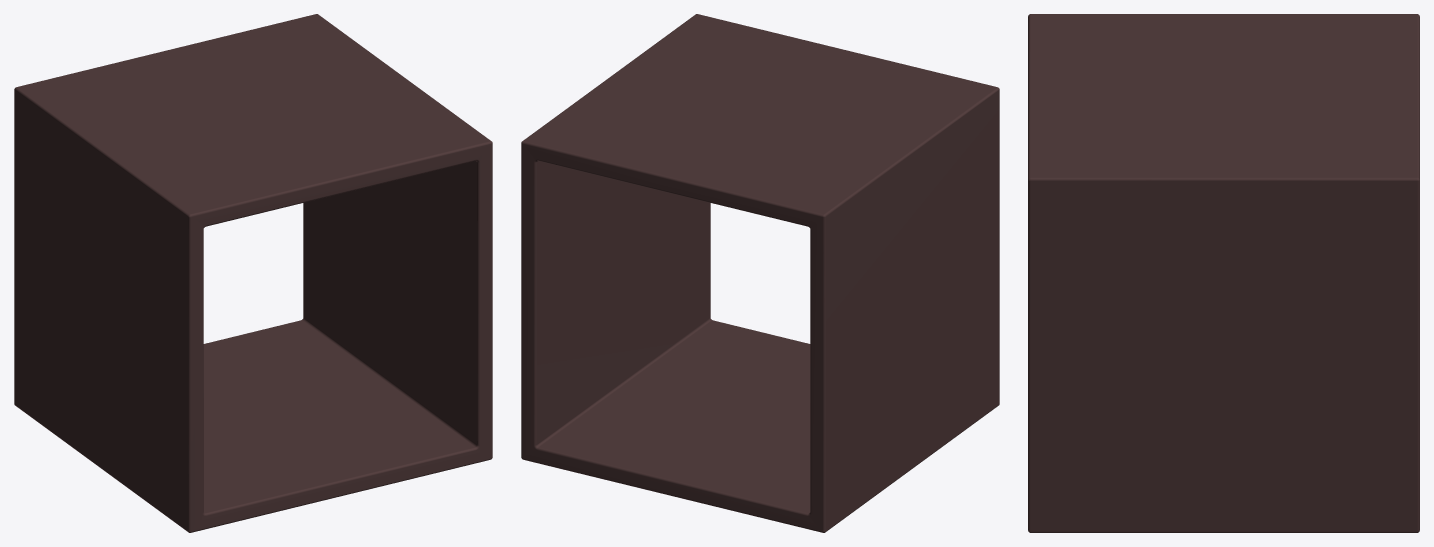
The model's file is box_shelf.glb.
3 views of the same model, side by side, from view 1: azimuth 30°, elevation 25°; view 2: azimuth 150°, elevation 25°; view 3: azimuth 270°, elevation 25° (orthographic). The views are drawn at different scales.
Visible parts, largest first — view 1: Object_2; view 2: Object_2; view 3: Object_2.
Part boxes in pixels (x1,y1,x2,y2): Object_2: (14, 14, 492, 532); Object_2: (521, 14, 999, 532); Object_2: (1028, 14, 1419, 532).
Bounding box in the file's own units: 300 × 300 × 300.
